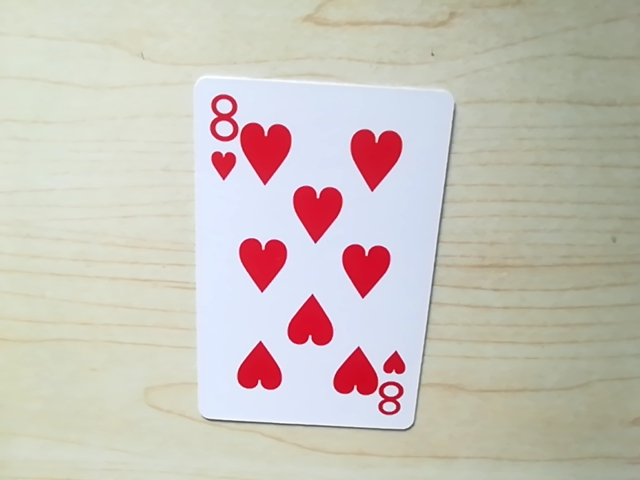hx 8: (205, 87, 238, 181), (377, 350, 412, 426)
